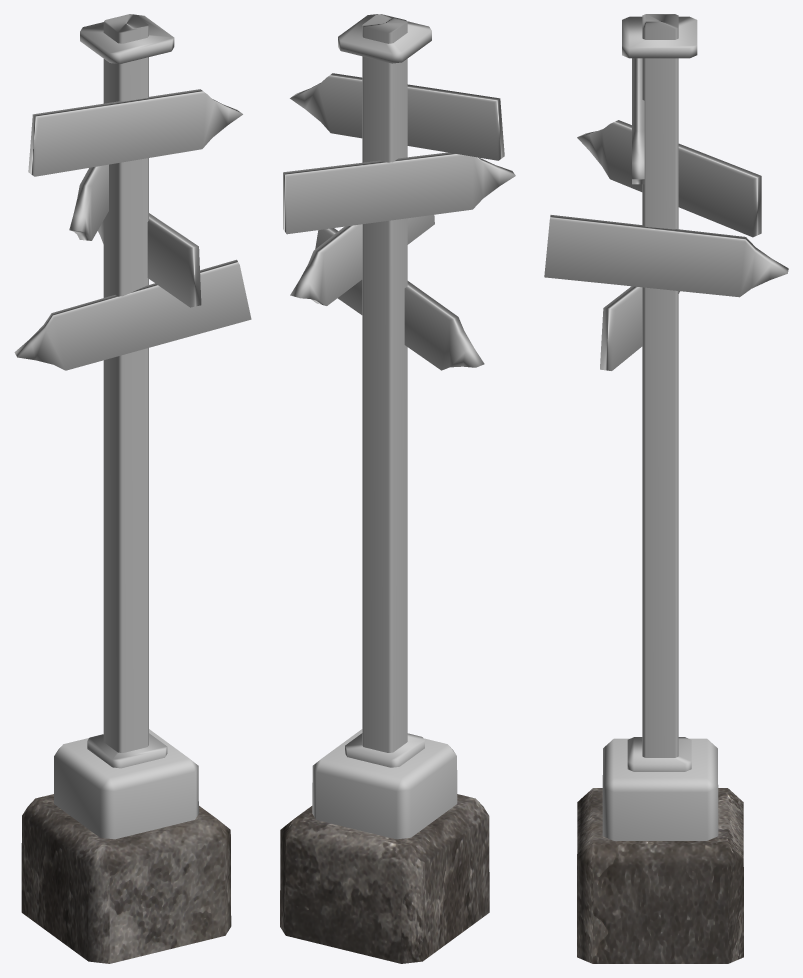
The model's file is SignPost.fbx.
3 renders of one model, left to right at view 1: azimuth 30°, elevation 25°; view 2: azimuth 150°, elevation 25°; view 3: azimuth 270°, elevation 25°, orthographic.
Parts seen in each view (by area): view 1: Mesh; view 2: Mesh; view 3: Mesh.
Part boxes in pixels (<box>): Mesh: <box>14,14,251,963</box>; Mesh: <box>280,14,515,963</box>; Mesh: <box>544,14,788,963</box>.
Size of the model in its own units: 108 by 444 by 108.
